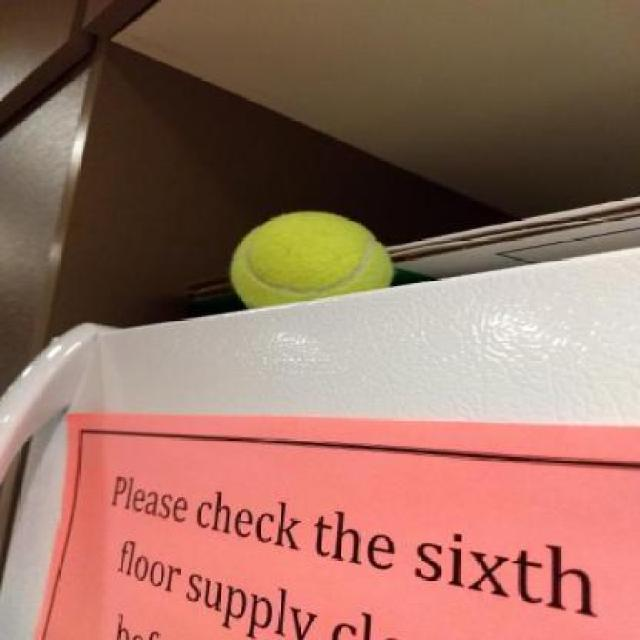-: (236, 185, 399, 318)
